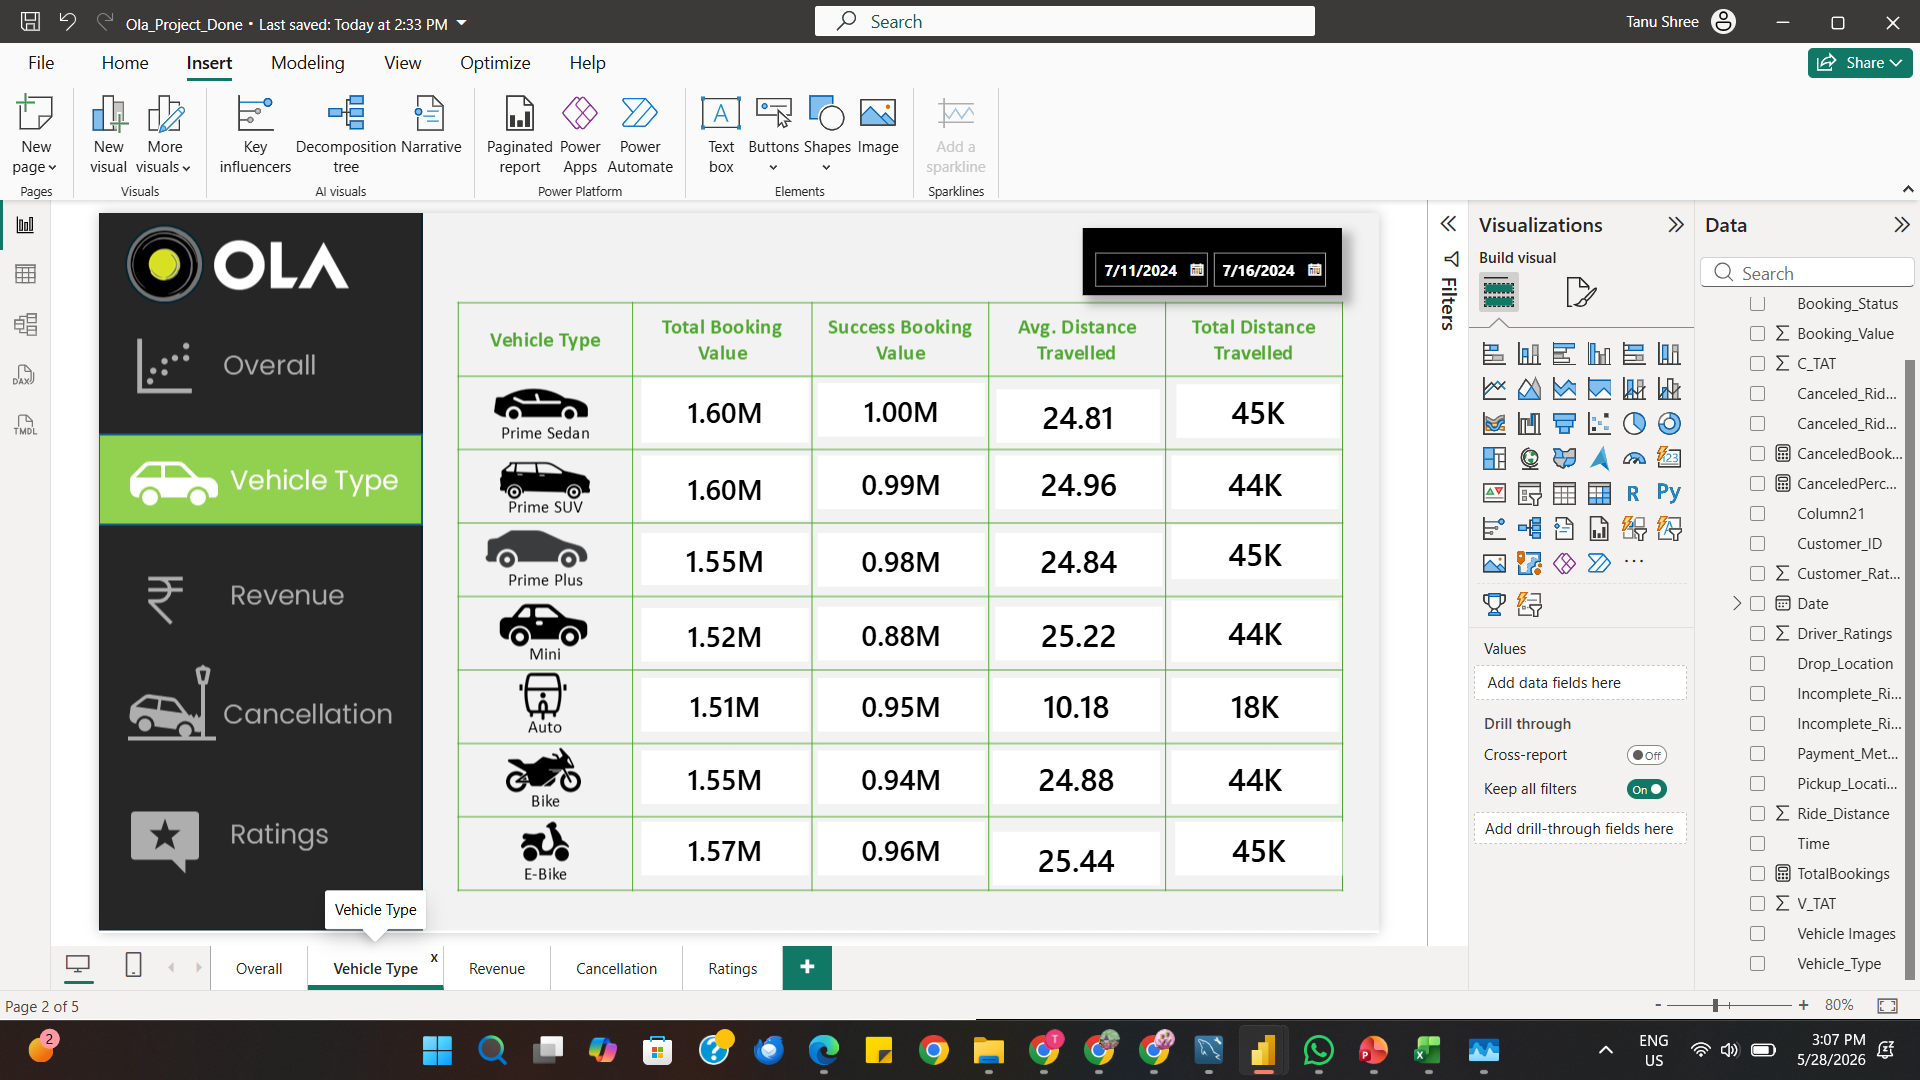

Layout of this report page (visuals, bound fields, positions):
{"tool":"powerbi","page":{"name":"Vehicle Type","canvas":[1280,720],"ordinal":1},"visuals":[{"type":"actionButton","box":[0,108.6,325.7,94.1],"z":0},{"type":"actionButton","box":[0,339,325.7,90.5],"z":1000},{"type":"actionButton","box":[0,447.6,325.7,90.5],"z":2000},{"type":"actionButton","box":[0,581.5,325.7,90.5],"z":3000},{"type":"cardVisual","fields":{"Data":["Sum(July.Booking_Value)"]},"box":[542,164.7,167.4,64.5],"z":3001},{"type":"cardVisual","fields":{"Data":["Sum(July.Booking_Value)"]},"box":[542,242.9,167.4,64.5],"z":3002},{"type":"cardVisual","fields":{"Data":["Sum(July.Booking_Value)"]},"box":[542,319.7,167.4,52.1],"z":3003},{"type":"cardVisual","fields":{"Data":["Sum(July.Booking_Value)"]},"box":[542,395.2,167.4,53.5],"z":3004},{"type":"cardVisual","fields":{"Data":["Sum(July.Booking_Value)"]},"box":[542,465.2,167.4,53.5],"z":3005},{"type":"cardVisual","fields":{"Data":["Sum(July.Booking_Value)"]},"box":[542,537.9,167.4,53.5],"z":3006},{"type":"cardVisual","fields":{"Data":["Sum(July.Booking_Value)"]},"box":[542,609.3,167.4,53.5],"z":3007},{"type":"cardVisual","fields":{"Data":["Sum(July.Booking_Value)"]},"box":[719,170.2,167.4,53.5],"z":3008},{"type":"cardVisual","fields":{"Data":["Sum(July.Booking_Value)"]},"box":[719,242.9,167.4,53.5],"z":3009},{"type":"cardVisual","fields":{"Data":["Sum(July.Booking_Value)"]},"box":[719,319.7,167.4,53.5],"z":3010},{"type":"cardVisual","fields":{"Data":["Sum(July.Booking_Value)"]},"box":[719,393.8,167.4,53.5],"z":3011},{"type":"cardVisual","fields":{"Data":["Sum(July.Booking_Value)"]},"box":[719,465.2,167.4,53.5],"z":3012},{"type":"cardVisual","fields":{"Data":["Sum(July.Booking_Value)"]},"box":[719,537.9,167.4,53.5],"z":3013},{"type":"cardVisual","fields":{"Data":["Sum(July.Booking_Value)"]},"box":[719,609.3,167.4,53.5],"z":3014},{"type":"cardVisual","fields":{"Data":["Avg(July.Ride_Distance)"]},"box":[897.4,175.6,163.3,53.5],"z":3015},{"type":"cardVisual","fields":{"Data":["Avg(July.Ride_Distance)"]},"box":[896.1,242.9,167.4,53.5],"z":3016},{"type":"cardVisual","fields":{"Data":["Avg(July.Ride_Distance)"]},"box":[896.1,319.7,167.4,53.5],"z":3017},{"type":"cardVisual","fields":{"Data":["Avg(July.Ride_Distance)"]},"box":[896.1,393.8,167.4,53.5],"z":3018},{"type":"cardVisual","fields":{"Data":["Avg(July.Ride_Distance)"]},"box":[893.3,465.2,167.4,53.5],"z":3019},{"type":"cardVisual","fields":{"Data":["Avg(July.Ride_Distance)"]},"box":[893.3,537.9,167.4,53.5],"z":3020},{"type":"cardVisual","fields":{"Data":["Avg(July.Ride_Distance)"]},"box":[893.3,618.9,167.4,53.5],"z":3021},{"type":"cardVisual","fields":{"Data":["Sum(July.Ride_Distance)"]},"box":[1077.2,171.5,163.3,53.5],"z":3022},{"type":"cardVisual","fields":{"Data":["Sum(July.Ride_Distance)"]},"box":[1073.1,242.9,167.4,53.5],"z":3023},{"type":"cardVisual","fields":{"Data":["Sum(July.Ride_Distance)"]},"box":[1073.1,312.9,167.4,53.5],"z":3024},{"type":"cardVisual","fields":{"Data":["Sum(July.Ride_Distance)"]},"box":[1073.1,387,167.4,61.7],"z":3025},{"type":"cardVisual","fields":{"Data":["Sum(July.Ride_Distance)"]},"box":[1073.1,465.2,167.4,53.5],"z":3026},{"type":"cardVisual","fields":{"Data":["Sum(July.Ride_Distance)"]},"box":[1073.1,537.9,167.4,53.5],"z":3027},{"type":"cardVisual","fields":{"Data":["Sum(July.Ride_Distance)"]},"box":[1075.8,609.3,167.4,53.5],"z":3028},{"type":"slicer","title":"Date","fields":{"Values":["July.Date"]},"box":[983.9,15.1,259.3,67.2],"z":3029}]}

Visuals, with their boxes on the page's 1280x720 design canvas (x1, y1, x2, y2). These are canvas units, not pixel positions in the 1920x1080 screenshot, which may show the page scaled, cropped or inside an application window:
actionButton: box=[0, 109, 326, 203]
actionButton: box=[0, 339, 326, 430]
actionButton: box=[0, 448, 326, 538]
actionButton: box=[0, 582, 326, 672]
cardVisual - Sum(July.Booking_Value): box=[542, 165, 709, 229]
cardVisual - Sum(July.Booking_Value): box=[542, 243, 709, 307]
cardVisual - Sum(July.Booking_Value): box=[542, 320, 709, 372]
cardVisual - Sum(July.Booking_Value): box=[542, 395, 709, 449]
cardVisual - Sum(July.Booking_Value): box=[542, 465, 709, 519]
cardVisual - Sum(July.Booking_Value): box=[542, 538, 709, 591]
cardVisual - Sum(July.Booking_Value): box=[542, 609, 709, 663]
cardVisual - Sum(July.Booking_Value): box=[719, 170, 886, 224]
cardVisual - Sum(July.Booking_Value): box=[719, 243, 886, 296]
cardVisual - Sum(July.Booking_Value): box=[719, 320, 886, 373]
cardVisual - Sum(July.Booking_Value): box=[719, 394, 886, 447]
cardVisual - Sum(July.Booking_Value): box=[719, 465, 886, 519]
cardVisual - Sum(July.Booking_Value): box=[719, 538, 886, 591]
cardVisual - Sum(July.Booking_Value): box=[719, 609, 886, 663]
cardVisual - Avg(July.Ride_Distance): box=[897, 176, 1061, 229]
cardVisual - Avg(July.Ride_Distance): box=[896, 243, 1064, 296]
cardVisual - Avg(July.Ride_Distance): box=[896, 320, 1064, 373]
cardVisual - Avg(July.Ride_Distance): box=[896, 394, 1064, 447]
cardVisual - Avg(July.Ride_Distance): box=[893, 465, 1061, 519]
cardVisual - Avg(July.Ride_Distance): box=[893, 538, 1061, 591]
cardVisual - Avg(July.Ride_Distance): box=[893, 619, 1061, 672]
cardVisual - Sum(July.Ride_Distance): box=[1077, 172, 1240, 225]
cardVisual - Sum(July.Ride_Distance): box=[1073, 243, 1240, 296]
cardVisual - Sum(July.Ride_Distance): box=[1073, 313, 1240, 366]
cardVisual - Sum(July.Ride_Distance): box=[1073, 387, 1240, 449]
cardVisual - Sum(July.Ride_Distance): box=[1073, 465, 1240, 519]
cardVisual - Sum(July.Ride_Distance): box=[1073, 538, 1240, 591]
cardVisual - Sum(July.Ride_Distance): box=[1076, 609, 1243, 663]
"Date" slicer: box=[984, 15, 1243, 82]
